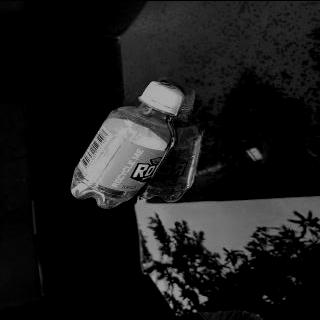bottle: (67, 78, 187, 210)
